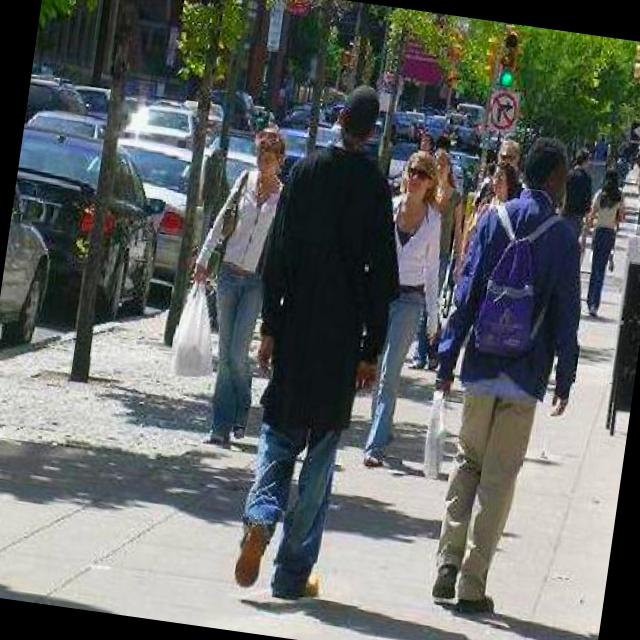Person: (214, 73, 423, 604), (397, 134, 607, 629), (153, 119, 290, 453), (352, 140, 453, 476), (573, 156, 632, 320)
